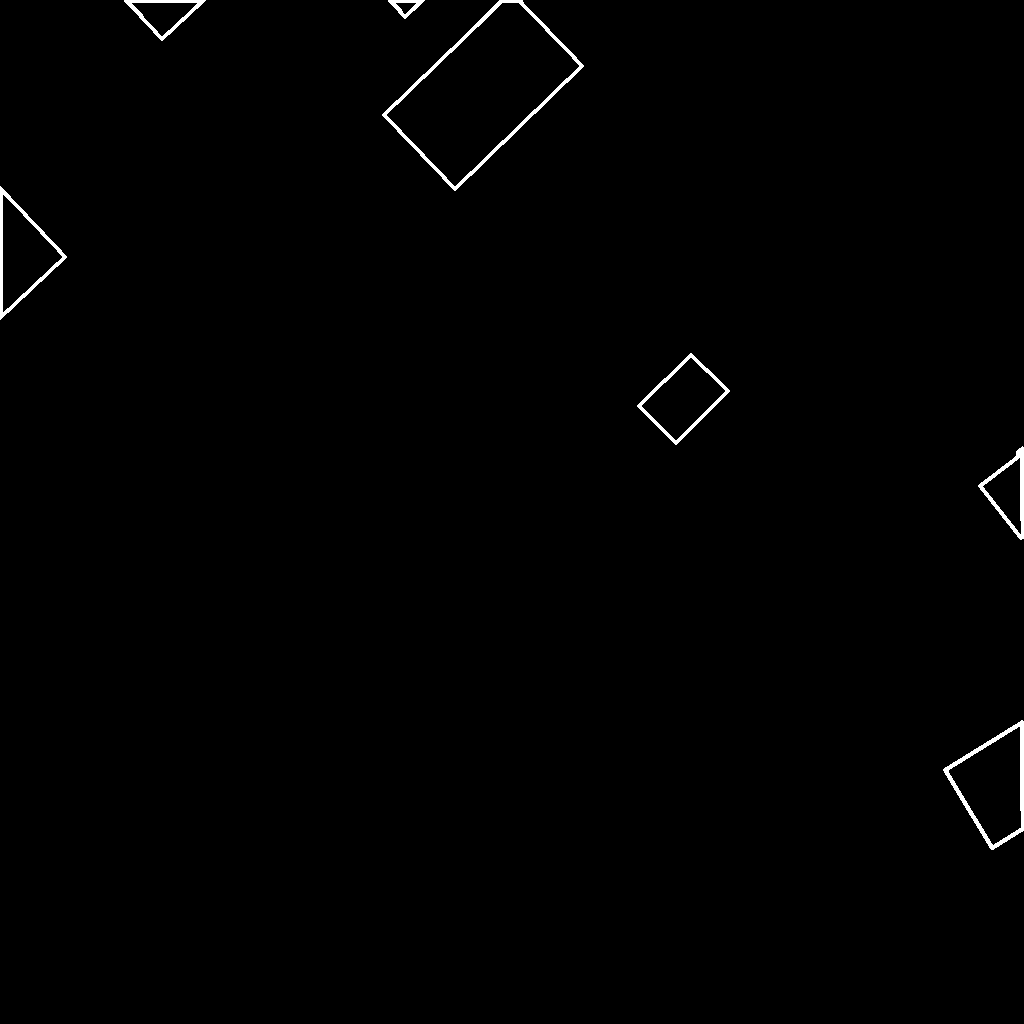building: (384, 0, 583, 190), (945, 722, 1024, 849), (0, 188, 66, 319), (639, 355, 729, 444), (980, 448, 1024, 539), (125, 0, 205, 40), (389, 0, 424, 18)
